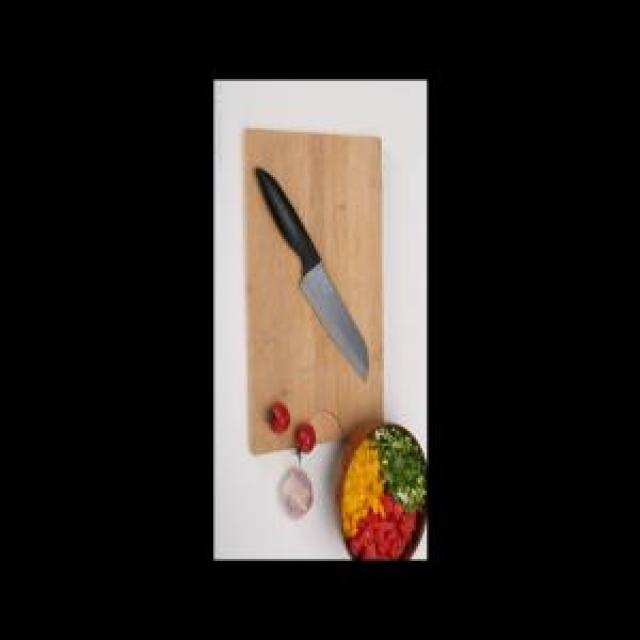knife: (252, 164, 371, 388)
